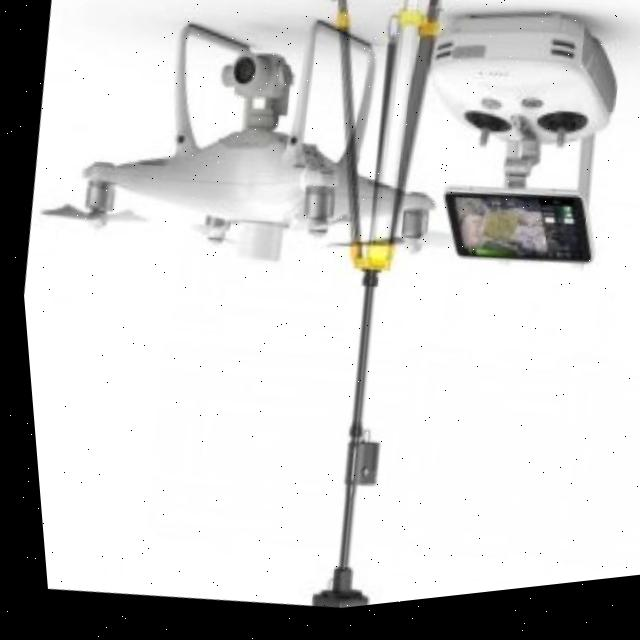drones: (3, 0, 533, 354)
